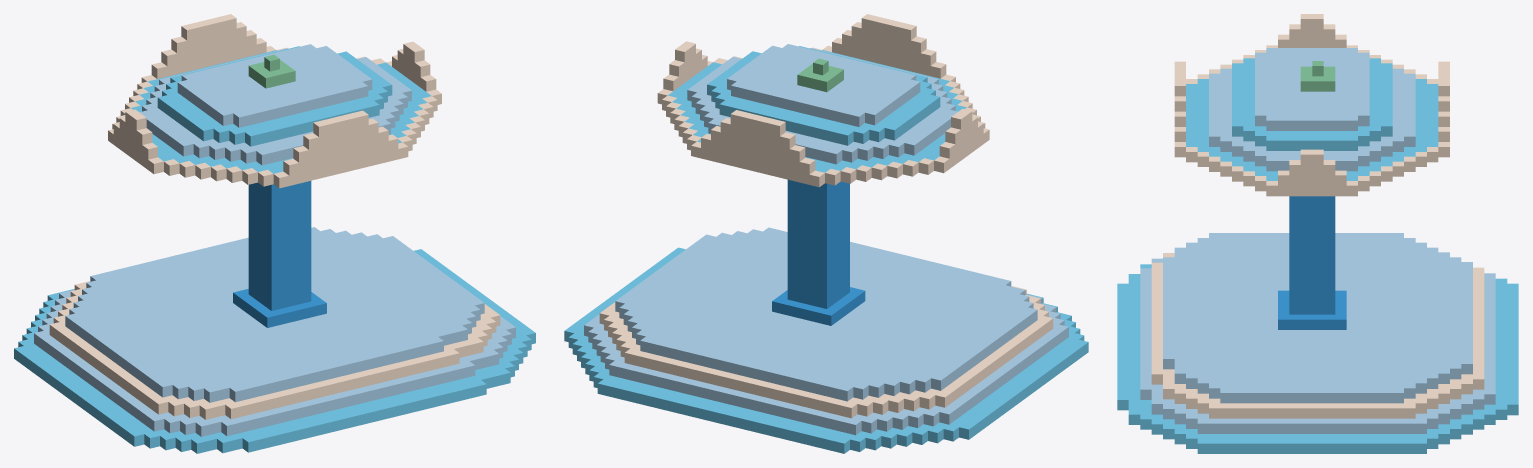
Rendered from carrusel_modificado.obj.
The picture shows the model from 3 angles, left to right: view 1: azimuth 30°, elevation 25°; view 2: azimuth 150°, elevation 25°; view 3: azimuth 270°, elevation 25°; orthographic projection.
Visible parts, largest first — view 1: carrusel.002; view 2: carrusel.002; view 3: carrusel.002.
Part boxes in pixels (x1=…): carrusel.002: x1=14, y1=14, x2=535, y2=453; carrusel.002: x1=564, y1=14, x2=1088, y2=453; carrusel.002: x1=1117, y1=14, x2=1518, y2=453.
Bounding box in the file's own units: 4.1 × 2.8 × 3.5.
